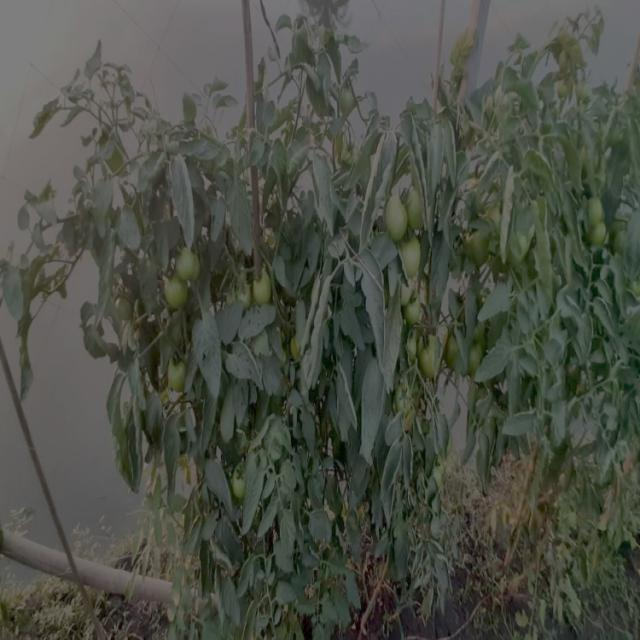tomato: (457, 214, 499, 256), (380, 192, 412, 239), (399, 232, 427, 285), (173, 241, 205, 282), (164, 354, 196, 390), (422, 338, 446, 385), (396, 378, 418, 428), (521, 191, 549, 229), (584, 191, 612, 228), (332, 79, 361, 114), (161, 277, 191, 310), (405, 185, 426, 232), (400, 289, 427, 325), (226, 465, 254, 499), (291, 327, 313, 364), (585, 225, 612, 255), (253, 270, 275, 306), (451, 336, 470, 376), (233, 283, 256, 315), (469, 338, 488, 376), (403, 331, 417, 364)
